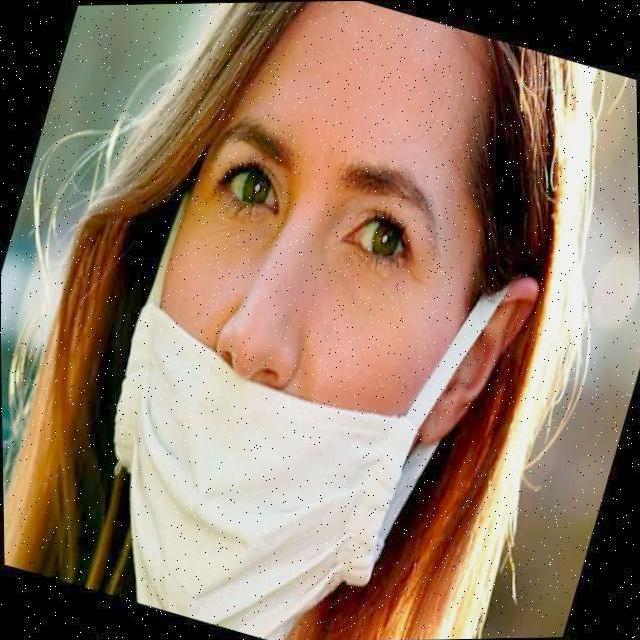hairnet: (96, 228, 553, 614)
